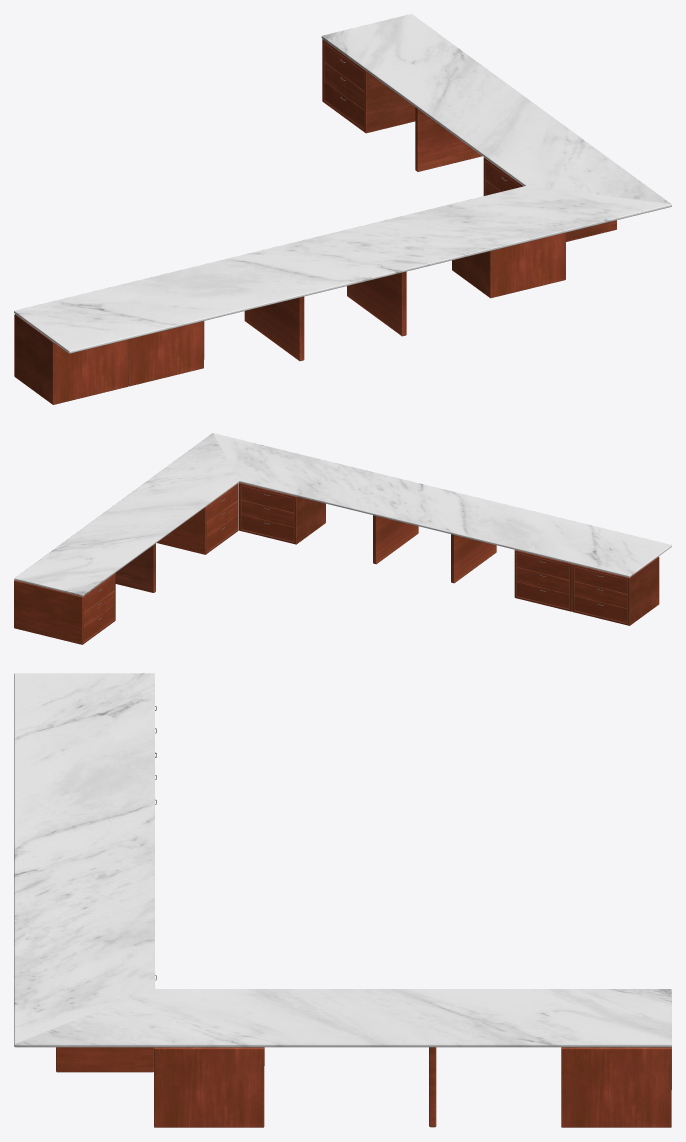
Rendered from Ltable.fbx.
3 renders of one model, top to bottom at view 1: azimuth 30°, elevation 25°; view 2: azimuth 150°, elevation 25°; view 3: azimuth 270°, elevation 25°, orthographic. The views are drawn at different scales.
Parts seen in each view (by area): view 1: Ltable; view 2: Ltable; view 3: Ltable.
Part boxes in pixels (x1,y1,x2,y2): Ltable: [14, 14, 671, 404]; Ltable: [14, 433, 671, 644]; Ltable: [14, 673, 671, 1127].
Bounding box in the file's own units: 725 × 76.39 × 543.
Materials: 2 (2 with a texture image).
